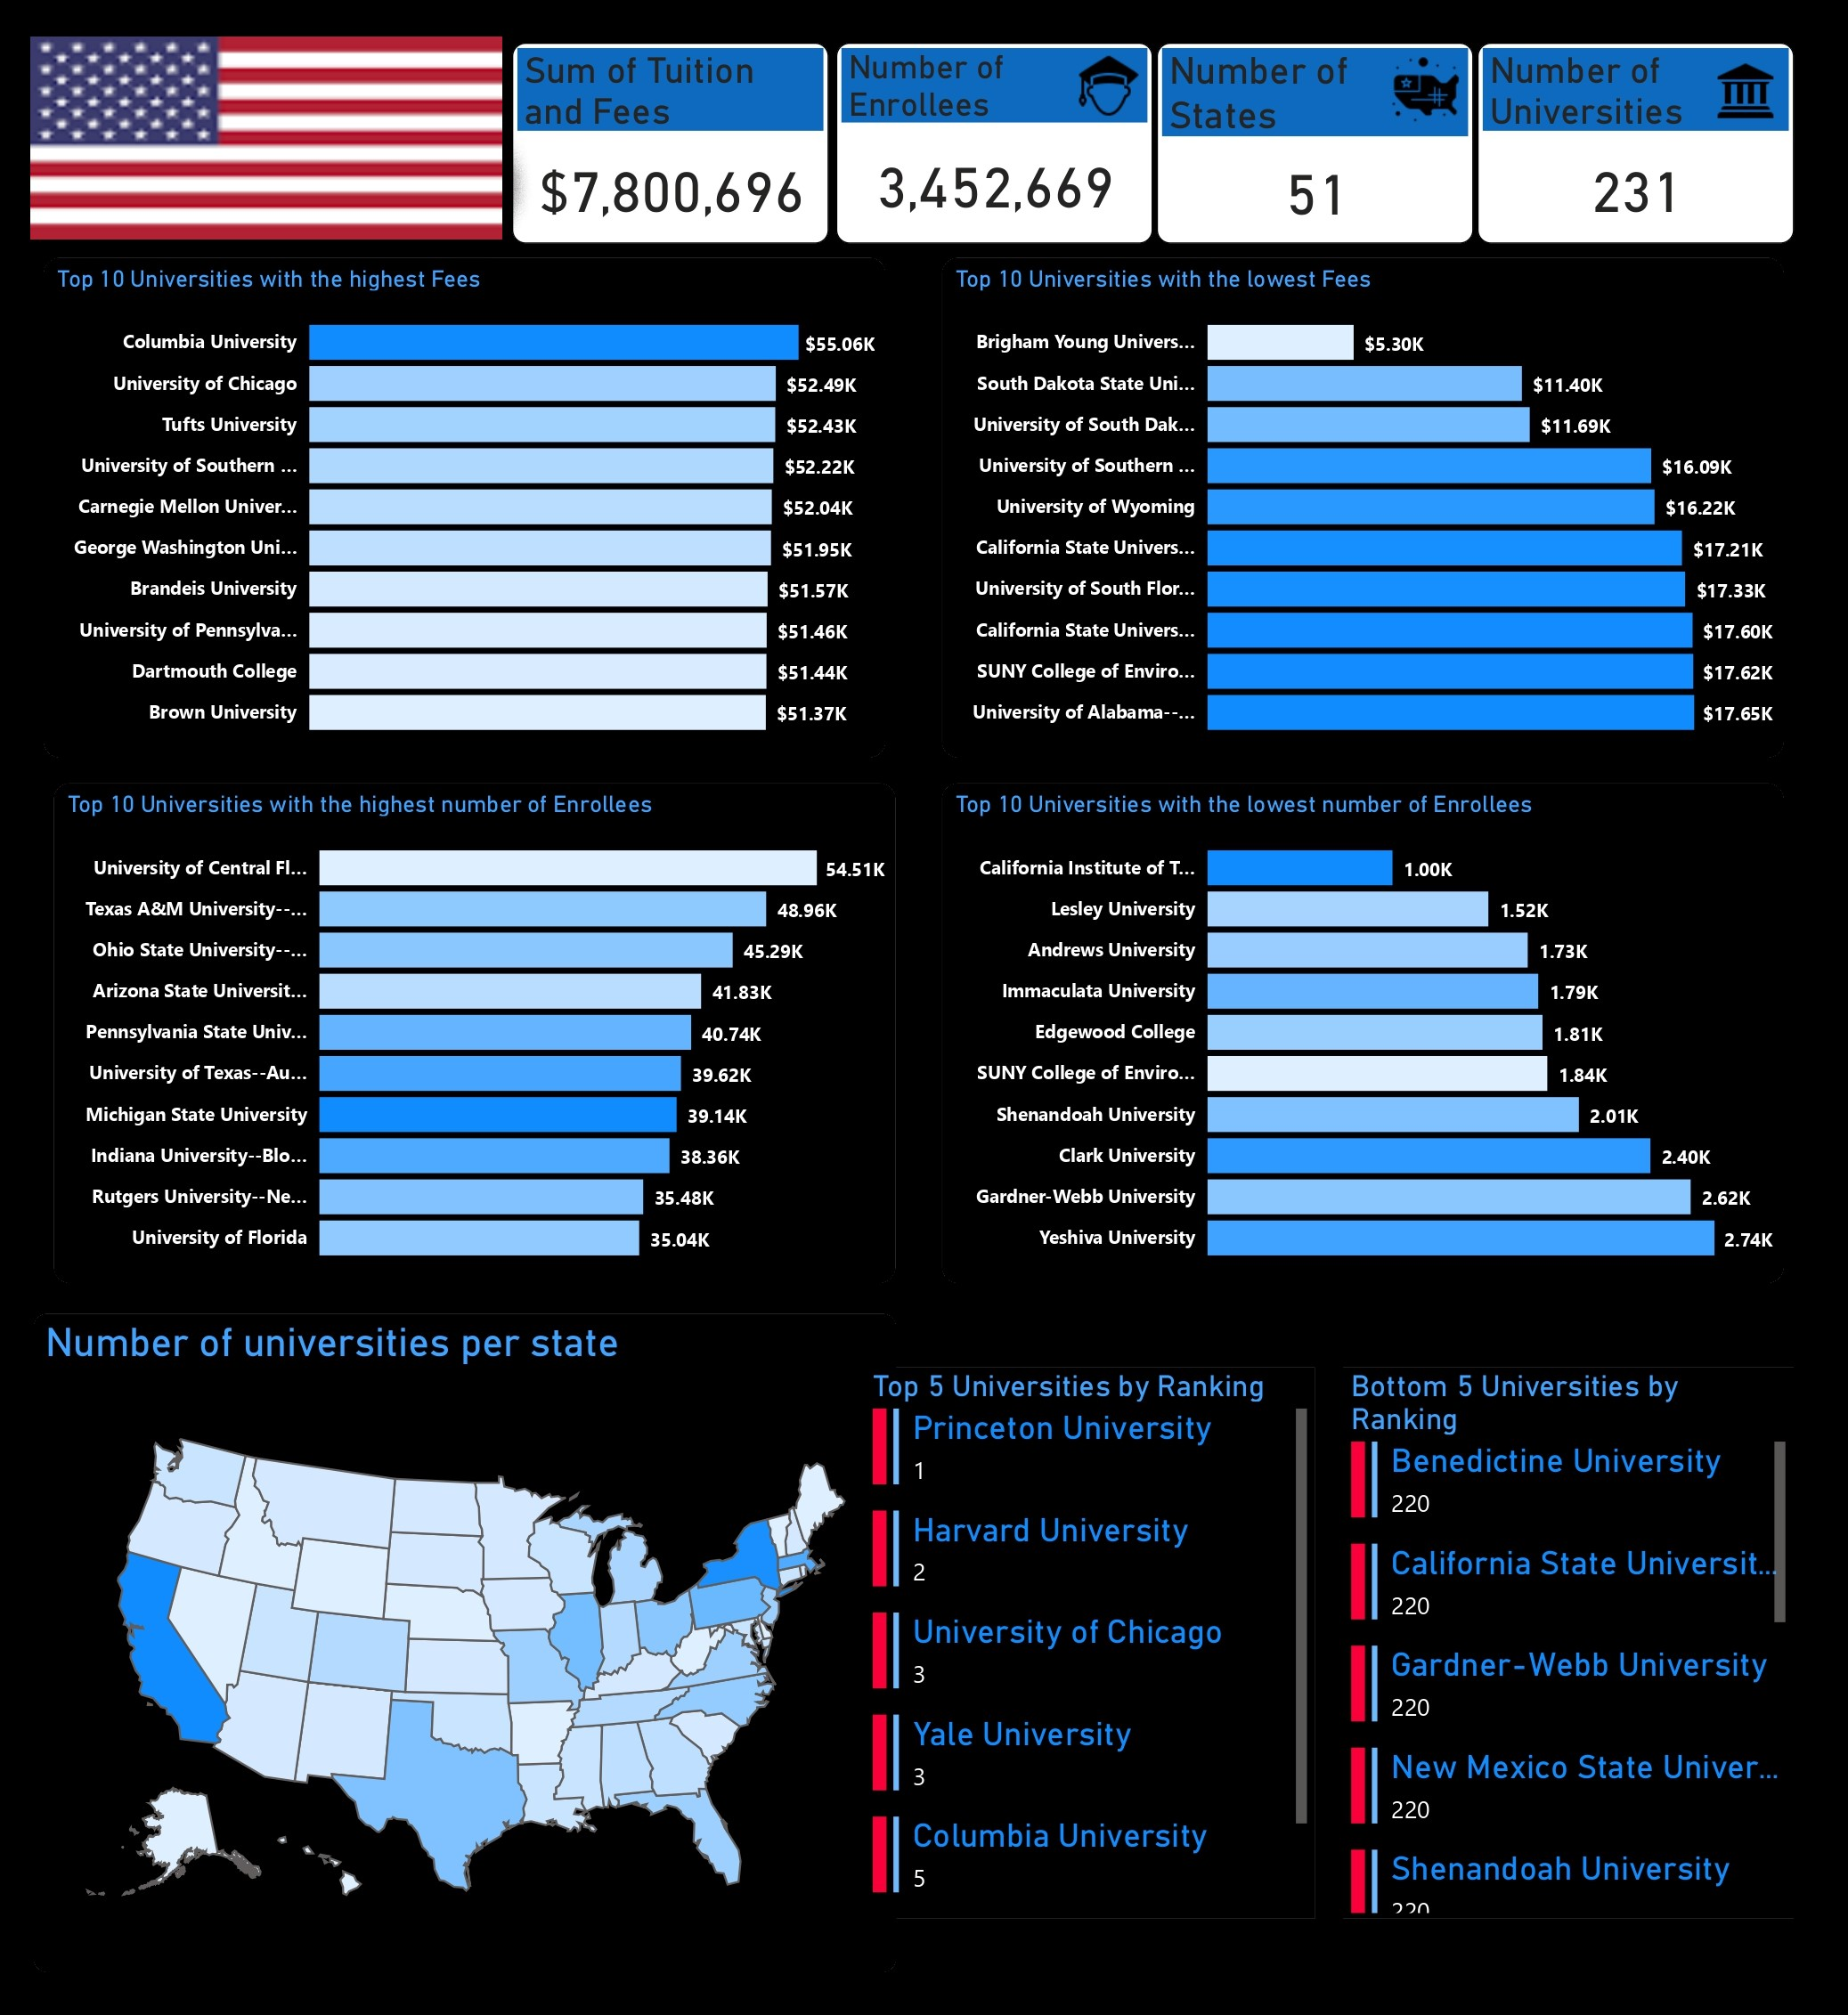

The dashboard page shown, as its layout file describes it:
{"tool":"powerbi","page":{"name":"Page 1","canvas":[1280,1400],"ordinal":0},"visuals":[{"type":"card","title":"Number of Enrollees","fields":{"Values":["Sum(National Universities Rankings.Undergrad Enrollment)"]},"box":[581.9,0,230,145.7],"z":0},{"type":"image","box":[749,2.9,62.9,57.1],"z":1000},{"type":"card","title":"Number of States","fields":{"Values":["Count(National Universities Rankings.State)"]},"box":[814.7,0,230,145.7],"z":2000},{"type":"image","box":[971.9,0,75.7,67.1],"z":3000},{"type":"card","title":"Number of Universities","fields":{"Values":["Count(National Universities Rankings.Name)"]},"box":[1047.1,0,230,145.7],"z":4000},{"type":"image","box":[1215.7,5.7,54.3,57.1],"z":5000},{"type":"image","box":[0,0,347.1,145.7],"z":6000},{"type":"shapeMap","title":"Number of universities per state","fields":{"Category":["National_Universities_Rankings.State"],"Value":["CountNonNull(National_Universities_Rankings.State)"]},"box":[0,922,626,478],"z":7000},{"type":"clusteredBarChart","title":"Top 10 Universities with the highest Fees","fields":{"Category":["National_Universities_Rankings.Name"],"Y":["Sum(National_Universities_Rankings.Tuition and fees)"]},"box":[7.1,155.7,611.4,362.9],"z":8000},{"type":"multiRowCard","title":"Bottom 5 Universities by Ranking","fields":{"Values":["National_Universities_Rankings.Name","Sum(National_Universities_Rankings.Rank)"]},"box":[950,961.4,327,400],"z":10000},{"type":"clusteredBarChart","title":"Top 10 Universities with the lowest Fees","fields":{"Category":["National_Universities_Rankings.Name"],"Y":["Sum(National_Universities_Rankings.Tuition and fees)"]},"box":[658.6,155.7,611.4,362.9],"z":11000},{"type":"clusteredBarChart","title":"Top 10 Universities with the highest number of Enrollees","fields":{"Category":["National_Universities_Rankings.Name"],"Y":["Sum(National_Universities_Rankings.Undergrad Enrollment)"]},"box":[14.3,537.1,611.4,362.9],"z":12000},{"type":"clusteredBarChart","title":"Top 10 Universities with the lowest number of Enrollees","fields":{"Category":["National_Universities_Rankings.Name"],"Y":["Sum(National_Universities_Rankings.Undergrad Enrollment)"]},"box":[658.6,537.1,611.4,362.9],"z":13000},{"type":"card","title":"Sum of Tuition and Fees","fields":{"Values":["Sum(National_Universities_Rankings.Tuition and fees)"]},"box":[347.1,0,230,145.7],"z":14000},{"type":"multiRowCard","title":"Top 5 Universities by Ranking","fields":{"Values":["National_Universities_Rankings.Name","Sum(National_Universities_Rankings.Rank)"]},"box":[602.9,961.4,327.1,400],"z":14001}]}

Visuals, with their boxes in screenshot pixels (x1, y1, x2, y2), scaled from the page's 1280x1400 canvas onto the 1848x2015 screenshot:
"Number of Enrollees" card: x1=840 y1=0 x2=1172 y2=210
image: x1=1081 y1=4 x2=1172 y2=86
"Number of States" card: x1=1176 y1=0 x2=1509 y2=210
image: x1=1404 y1=0 x2=1512 y2=96
"Number of Universities" card: x1=1511 y1=0 x2=1844 y2=210
image: x1=1755 y1=8 x2=1834 y2=91
image: x1=0 y1=0 x2=501 y2=210
"Number of universities per state" shapeMap: x1=0 y1=1327 x2=904 y2=2014
"Top 10 Universities with the highest Fees" clusteredBarChart: x1=11 y1=224 x2=893 y2=746
"Bottom 5 Universities by Ranking" multiRowCard: x1=1372 y1=1384 x2=1844 y2=1960
"Top 10 Universities with the lowest Fees" clusteredBarChart: x1=951 y1=224 x2=1834 y2=746
"Top 10 Universities with the highest number of Enrollees" clusteredBarChart: x1=20 y1=773 x2=903 y2=1296
"Top 10 Universities with the lowest number of Enrollees" clusteredBarChart: x1=951 y1=773 x2=1834 y2=1296
"Sum of Tuition and Fees" card: x1=501 y1=0 x2=834 y2=210
"Top 5 Universities by Ranking" multiRowCard: x1=870 y1=1384 x2=1343 y2=1960
